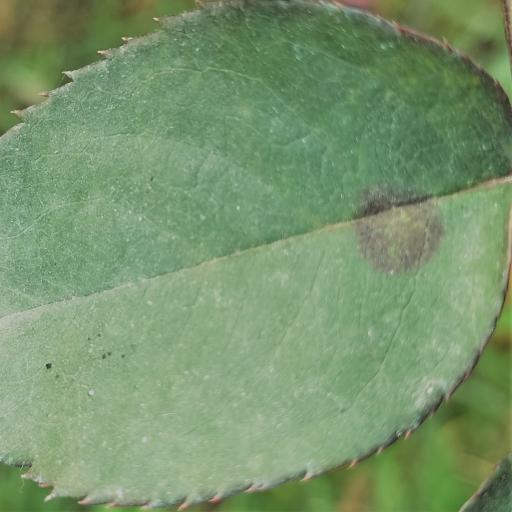black_spot: (0, 0, 512, 508)
